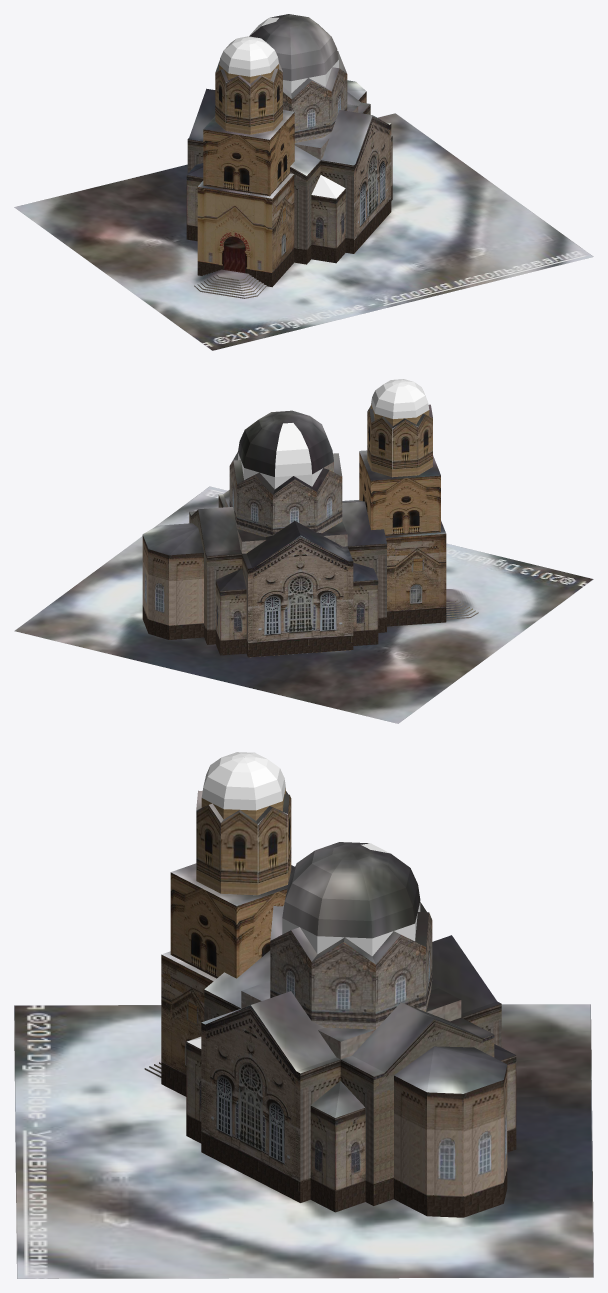
File: Hram Ilyi.fbx
3 views of the same model, one above another, from view 1: azimuth 30°, elevation 25°; view 2: azimuth 150°, elevation 25°; view 3: azimuth 270°, elevation 25° (orthographic). The views are drawn at different scales.
Visible parts, largest first — view 1: Google_Earth_Snapshot, Model; view 2: Model, Google_Earth_Snapshot; view 3: Model, Google_Earth_Snapshot.
Boxes of the visible parts, x1,y1,x2,y2 form: Google_Earth_Snapshot: (14, 113, 593, 350); Model: (186, 14, 392, 298); Model: (142, 379, 478, 657); Google_Earth_Snapshot: (14, 486, 593, 723); Model: (144, 752, 516, 1217); Google_Earth_Snapshot: (14, 1004, 593, 1278).
Size of the model in its own units: 49928 by 28000 by 44556.
